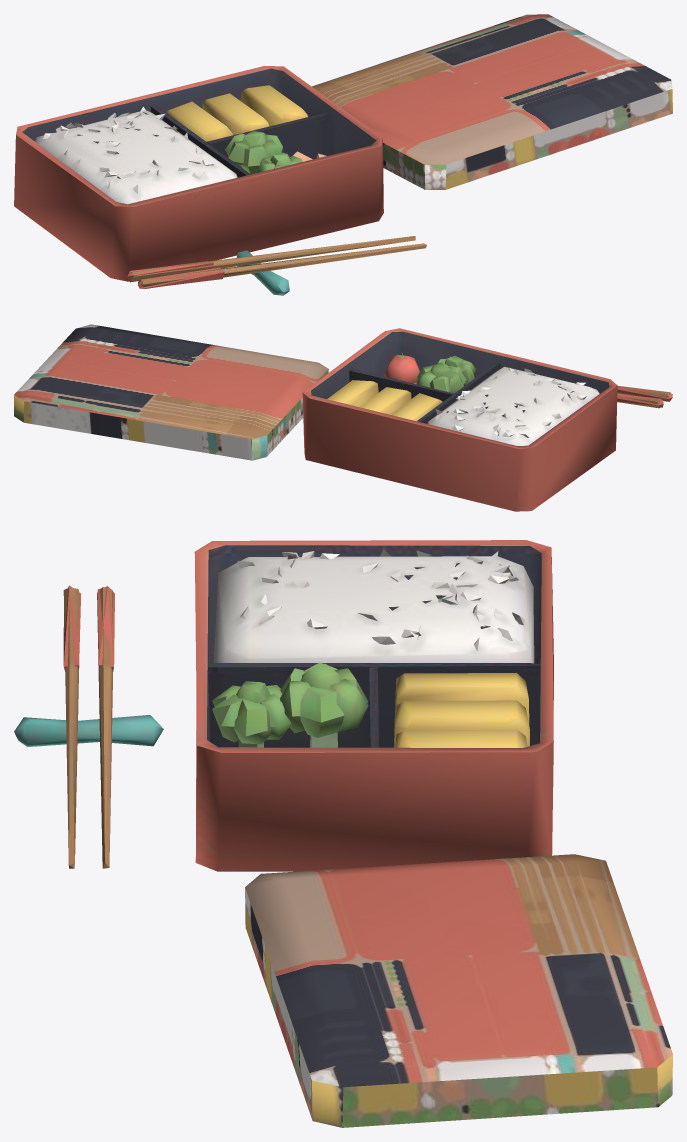
Rendered from food-bento-box.glb.
3 renders of one model, top to bottom at view 1: azimuth 30°, elevation 25°; view 2: azimuth 150°, elevation 25°; view 3: azimuth 270°, elevation 25°, orthographic. The views are drawn at different scales.
Parts seen in each view (by area): view 1: bento-box_body; view 2: bento-box_body; view 3: bento-box_body.
Part boxes in pixels (bbox=[...]): bento-box_body: bbox=[14, 14, 672, 295]; bento-box_body: bbox=[14, 324, 672, 511]; bento-box_body: bbox=[14, 540, 672, 1127].
Size of the model in its own units: 4.4 by 0.5651 by 2.53.
1 material, 1 textured.
